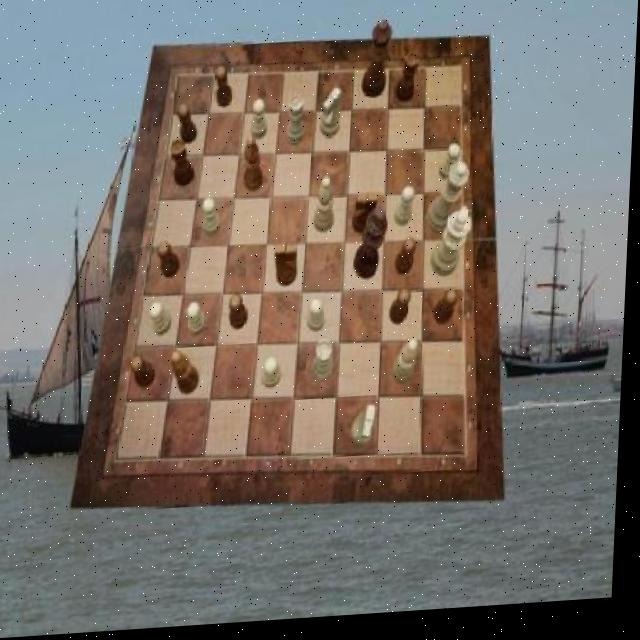bishop: (173, 352, 203, 399), (244, 138, 266, 197)
black-bishop: (355, 210, 390, 285)
black-king: (275, 247, 300, 292), (354, 196, 380, 239)
black-knight: (159, 242, 184, 281), (436, 295, 461, 332), (132, 356, 158, 391), (178, 106, 200, 147), (391, 293, 412, 332), (215, 69, 234, 112), (230, 296, 251, 333), (397, 244, 418, 281)
black-pawn: (362, 24, 394, 103)
black-queen: (170, 142, 198, 190), (395, 58, 420, 108)
black-rook: (315, 180, 338, 238), (395, 345, 421, 392)
white-bishop: (432, 212, 475, 283)
white-king: (320, 93, 342, 143), (355, 410, 380, 452)
white-knight: (394, 192, 416, 231), (151, 303, 175, 338), (203, 202, 223, 241), (440, 151, 461, 188), (188, 304, 210, 339), (310, 302, 330, 337), (251, 103, 268, 144), (266, 361, 285, 395)
white-pawn: (428, 167, 472, 240)
white-queen: (287, 99, 308, 149), (314, 343, 337, 387)
